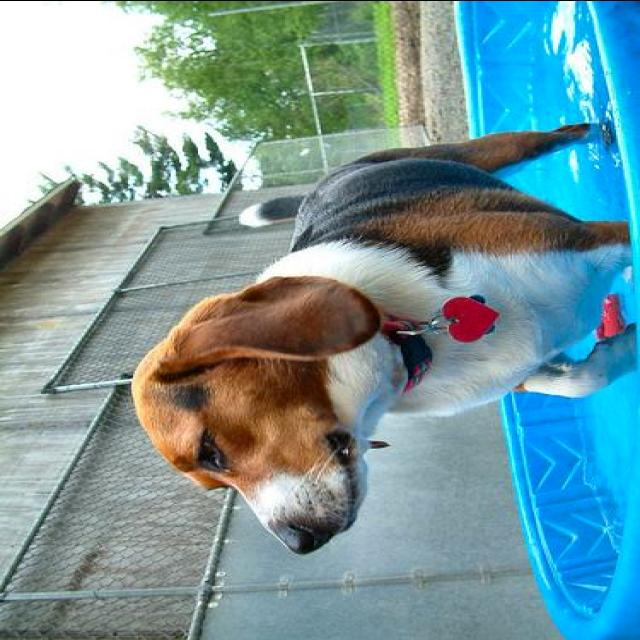beagle: (124, 114, 626, 554)
